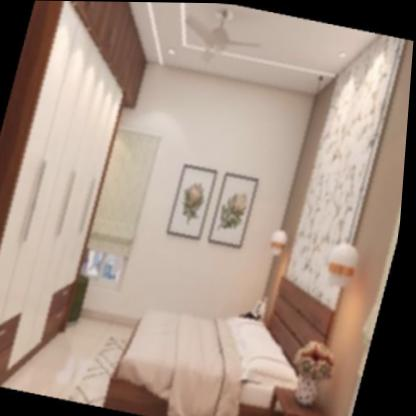Bed: (115, 271, 319, 416)
Closet: (0, 0, 141, 384)
